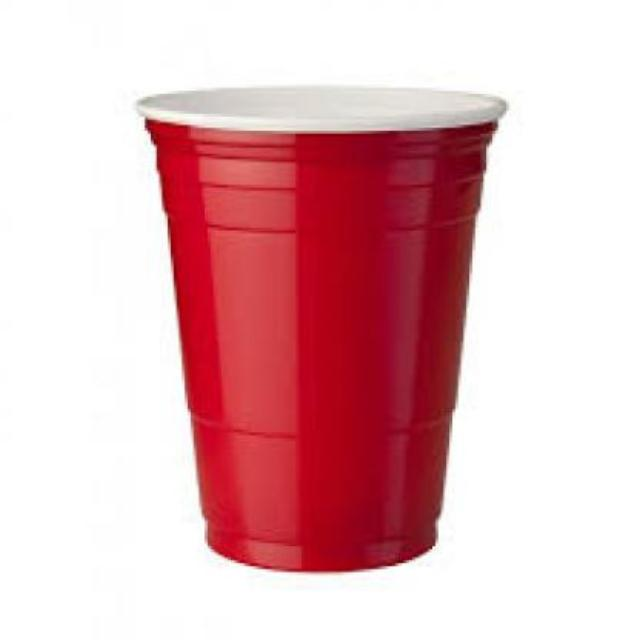plastic_cup: (134, 86, 506, 574)
